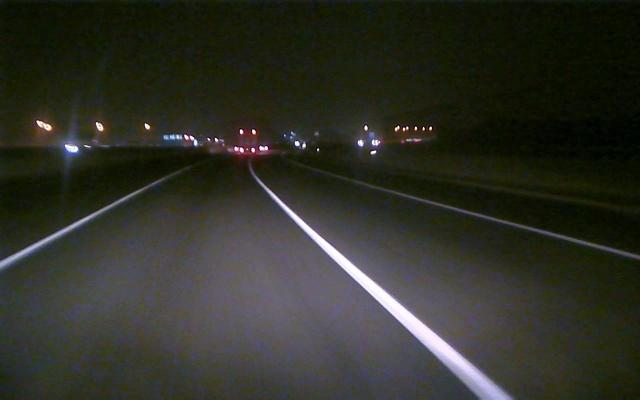lane: (257, 182, 510, 395), (361, 182, 639, 260), (0, 181, 158, 274)
